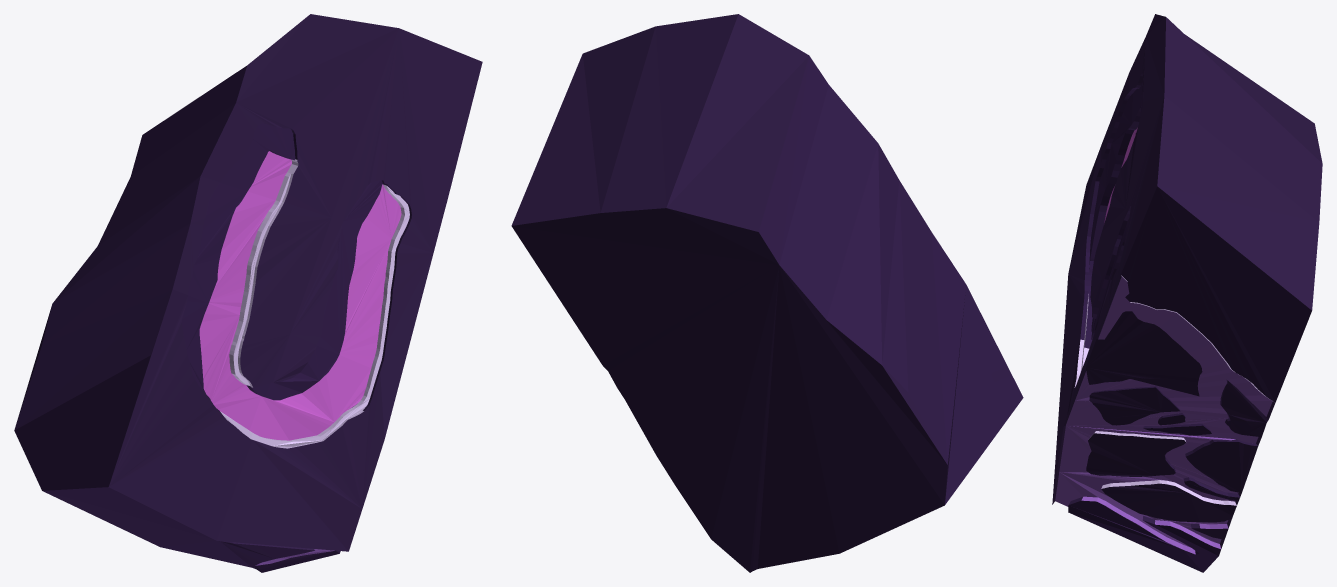
File: Ustone.fbx
3 views of the same model, side by side, from view 1: azimuth 30°, elevation 25°; view 2: azimuth 150°, elevation 25°; view 3: azimuth 270°, elevation 25° (orthographic). The views are drawn at different scales.
Visible parts, largest first — view 1: pCube11; view 2: pCube11; view 3: pCube11.
Boxes of the visible parts, x1,y1,x2,y2 form: pCube11: (14,14,482,572); pCube11: (511,14,1023,572); pCube11: (1052,14,1322,572).
Size of the model in its own units: 1.33 by 1.69 by 0.7258.
Materials: 1 (1 with a texture image).
